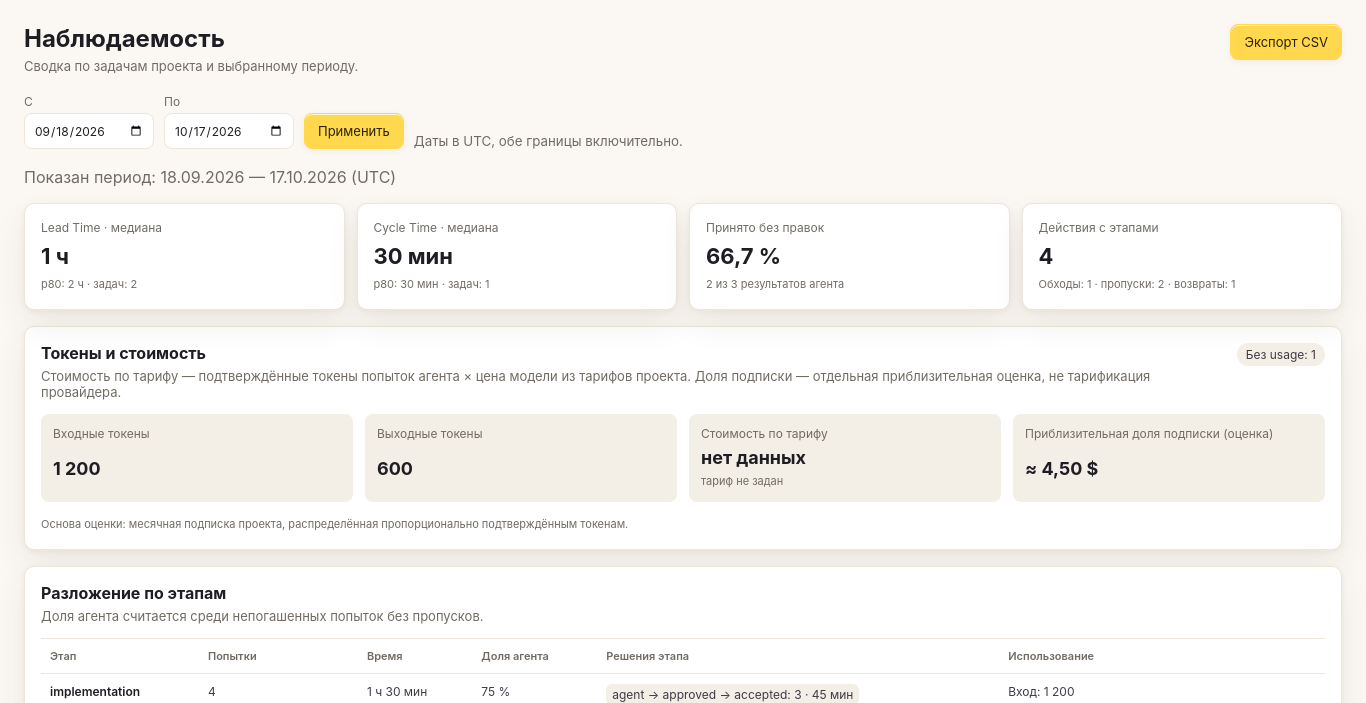
Observability › reports a CSV export failure without downloading a file
This screenshot has width=1366, height=703.
Expected: the heading "Разложение по этапам" is shown, [41,583,226,603]
Click the button "Экспорт CSV": (1286, 42) [1230,24,1342,60]
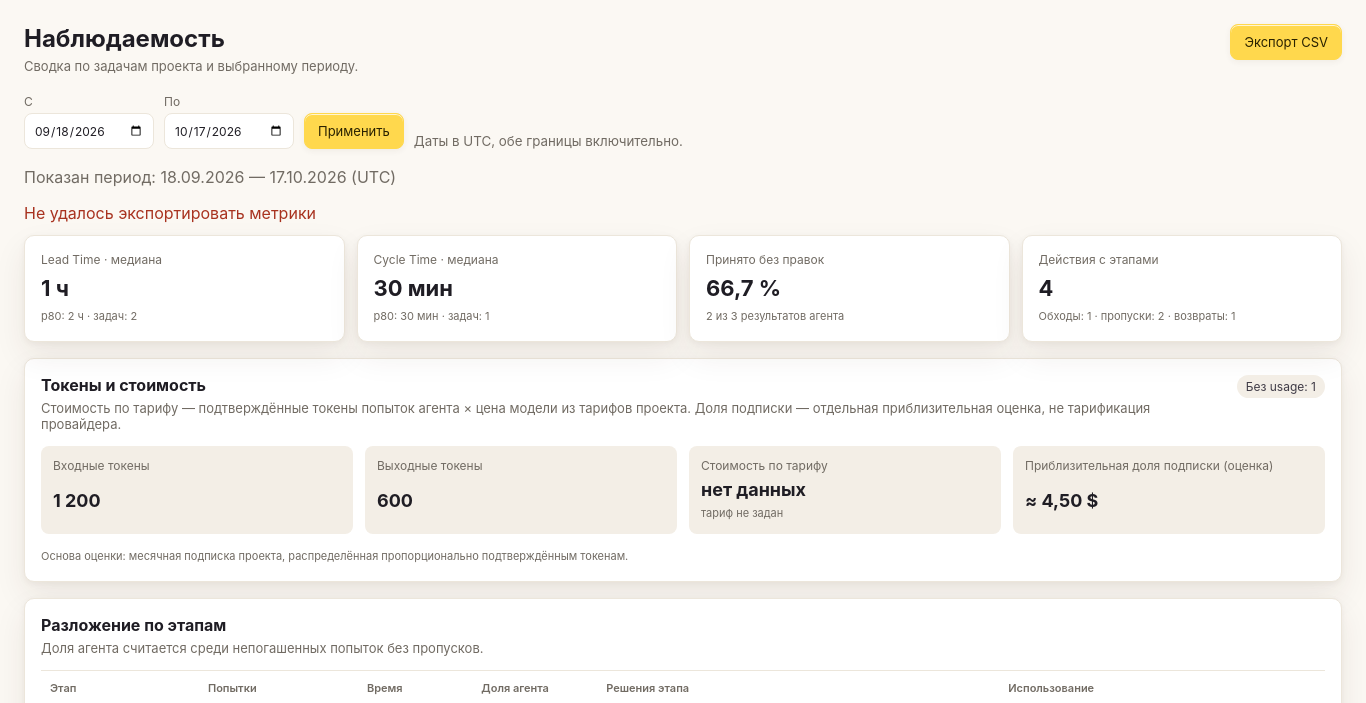
Expected: the message reads "Не удалось экспортировать метрики", [24,203,316,223]
